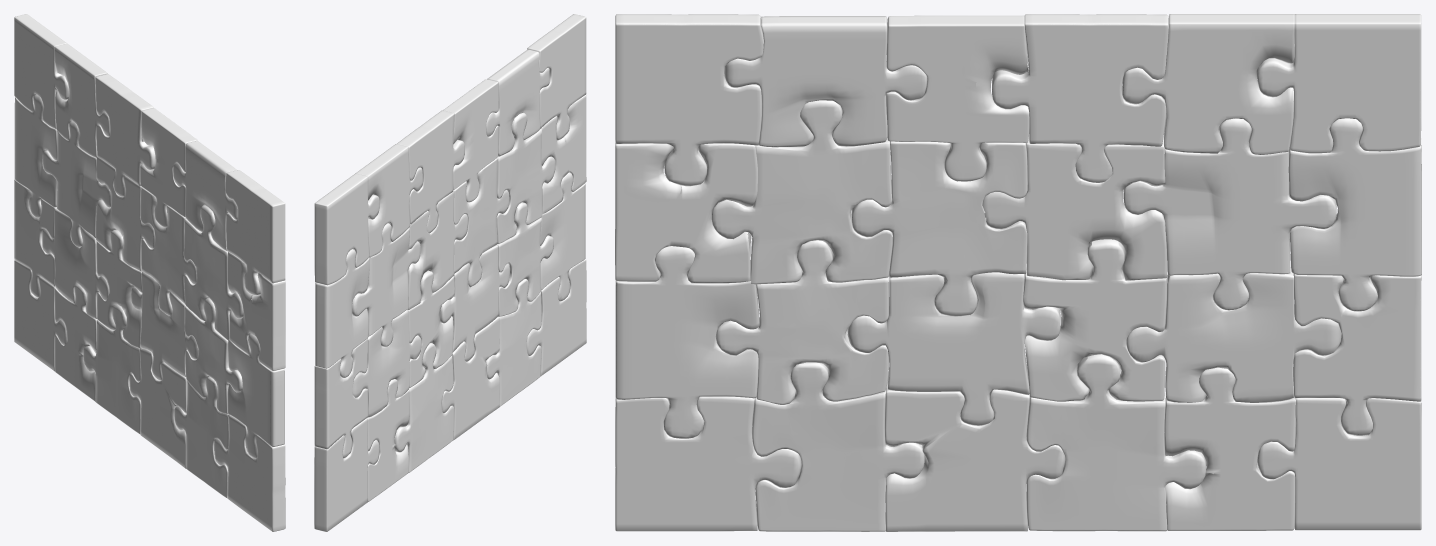
The model's file is Puzle.FBX.
3 renders of one model, left to right at view 1: azimuth 30°, elevation 25°; view 2: azimuth 150°, elevation 25°; view 3: azimuth 270°, elevation 25°, orthographic. The views are drawn at different scales.
Visible parts, largest first — view 1: Box002, Box003, Box010, Box007, Box024, Box008, Box021, Box023, Box012, Box001, Box009, Box017 (+12 smaller); view 2: Box001, Box004, Box005, Box002, Box007, Box008, Box021, Box023, Box003, Box012, Box011, Box009 (+12 smaller); view 3: Box008, Box023, Box002, Box007, Box021, Box012, Box003, Box009, Box016, Box010, Box020, Box001 (+12 smaller).
Boxes of the visible parts, <box> form: Box002: <box>225,170,285,295</box>; Box003: <box>214,414,285,531</box>; Box010: <box>227,333,284,458</box>; Box007: <box>95,74,155,196</box>; Box024: <box>227,252,285,370</box>; Box008: <box>83,304,140,433</box>; Box021: <box>183,205,251,340</box>; Box023: <box>42,120,111,246</box>; Box012: <box>129,348,187,468</box>; Box001: <box>14,14,69,128</box>; Box009: <box>174,376,228,497</box>; Box017: <box>54,43,110,157</box>; Box001: <box>314,173,379,285</box>; Box004: <box>314,418,379,531</box>; Box005: <box>315,249,369,377</box>; Box002: <box>527,14,586,140</box>; Box007: <box>397,110,464,233</box>; Box008: <box>394,343,453,472</box>; Box021: <box>496,112,555,243</box>; Box023: <box>352,223,420,346</box>; Box003: <box>526,259,586,376</box>; Box012: <box>442,317,499,440</box>; Box011: <box>314,338,367,458</box>; Box009: <box>486,279,541,406</box>; Box008: <box>1026,354,1205,531</box>; Box023: <box>1123,118,1336,310</box>; Box002: <box>615,14,763,186</box>; Box007: <box>992,14,1168,182</box>; Box021: <box>711,100,892,284</box>; Box012: <box>885,383,1065,531</box>; Box003: <box>615,396,801,531</box>; Box009: <box>752,362,924,531</box>; Box016: <box>852,141,1027,316</box>; Box010: <box>615,246,759,438</box>; Box020: <box>847,272,1060,425</box>; Box001: <box>1256,14,1421,153</box>.
Bounding box in the file's own units: 1.22 × 25.07 × 36.01.
Materials: 24 (24 with a texture image).
